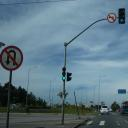NoVirarEsquerda: (106, 12, 117, 23)
NoVirarU: (0, 44, 24, 73)
